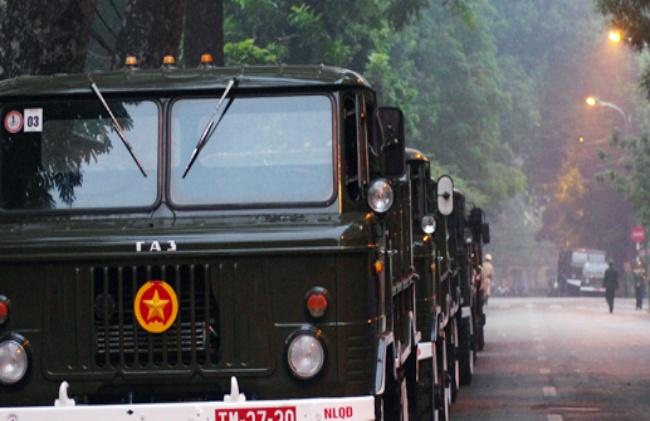plate: (214, 405, 292, 420)
